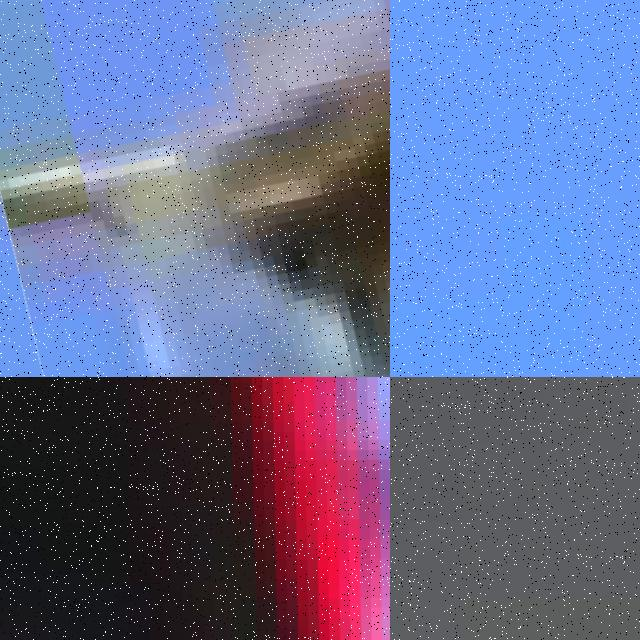drone: (0, 0, 390, 377)
